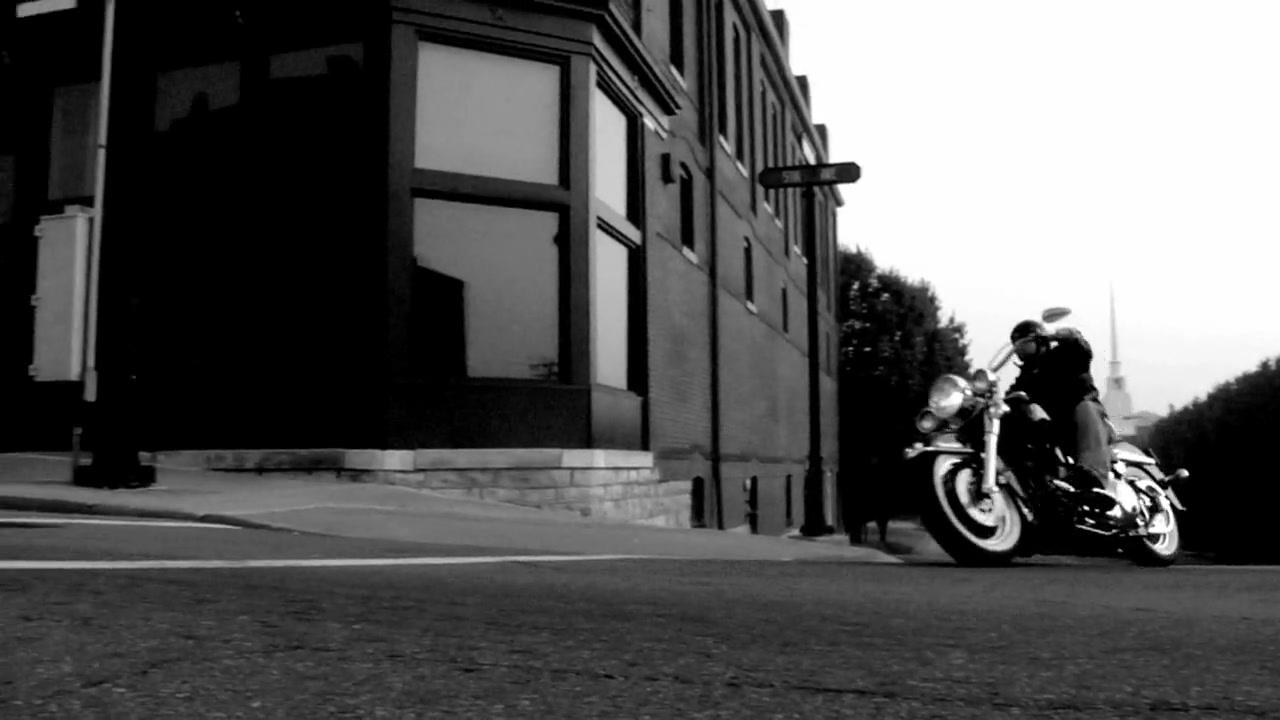motorbike: (903, 306, 1192, 564)
